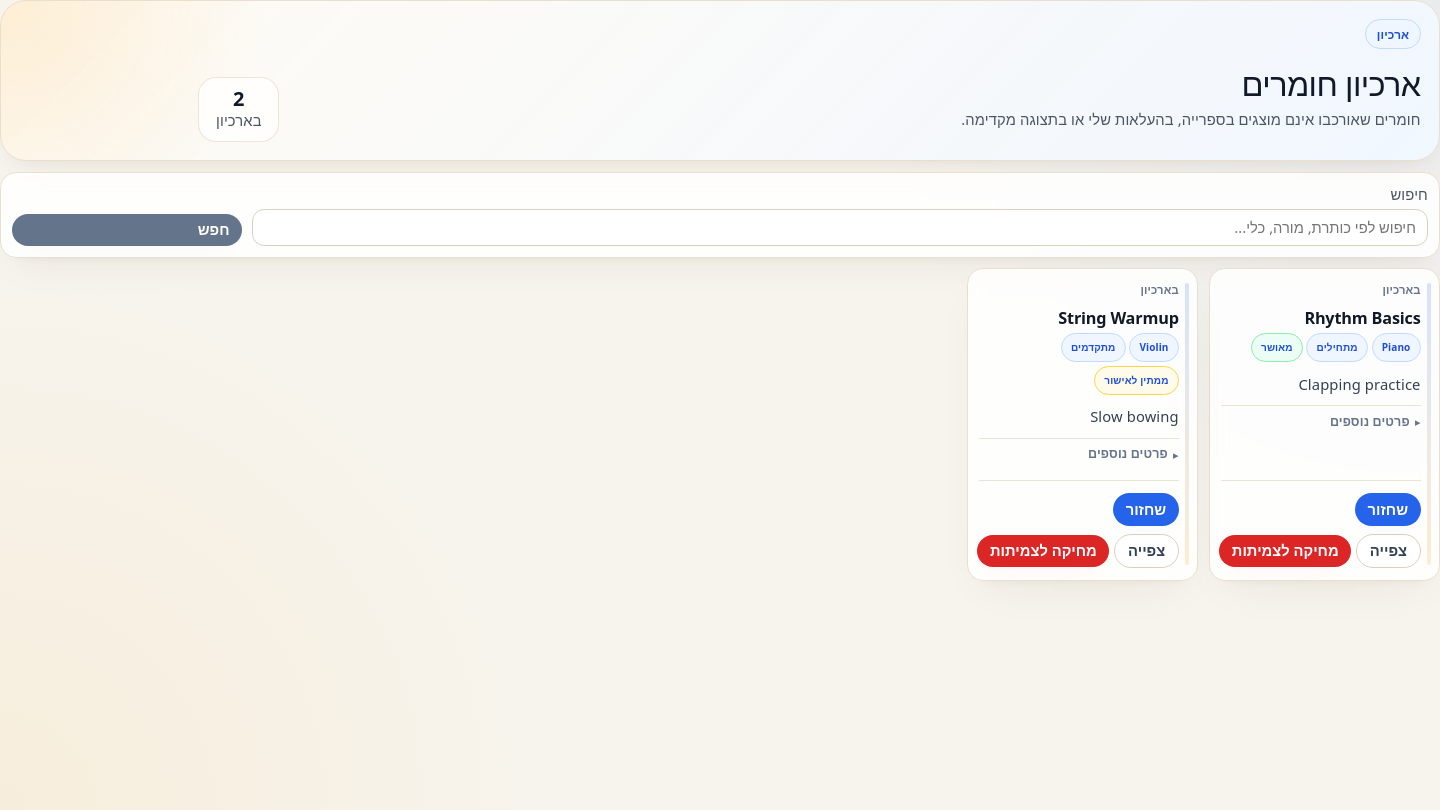
Scenario: AdminArchivedMaterialsPage › loads archived materials and allows restoring
The width and height of the screenshot is (1440, 810).
Expected: the heading "Rhythm Basics" is shown, [1304,306,1421,328]
Expected: the heading "String Warmup" is shown, [1058,306,1179,328]
What coordinates should you click on to do the following:
click the button "שחזור" below "Clapping practice"
I would click on:
 (1388, 510)
Its box is [1355,493,1421,526].
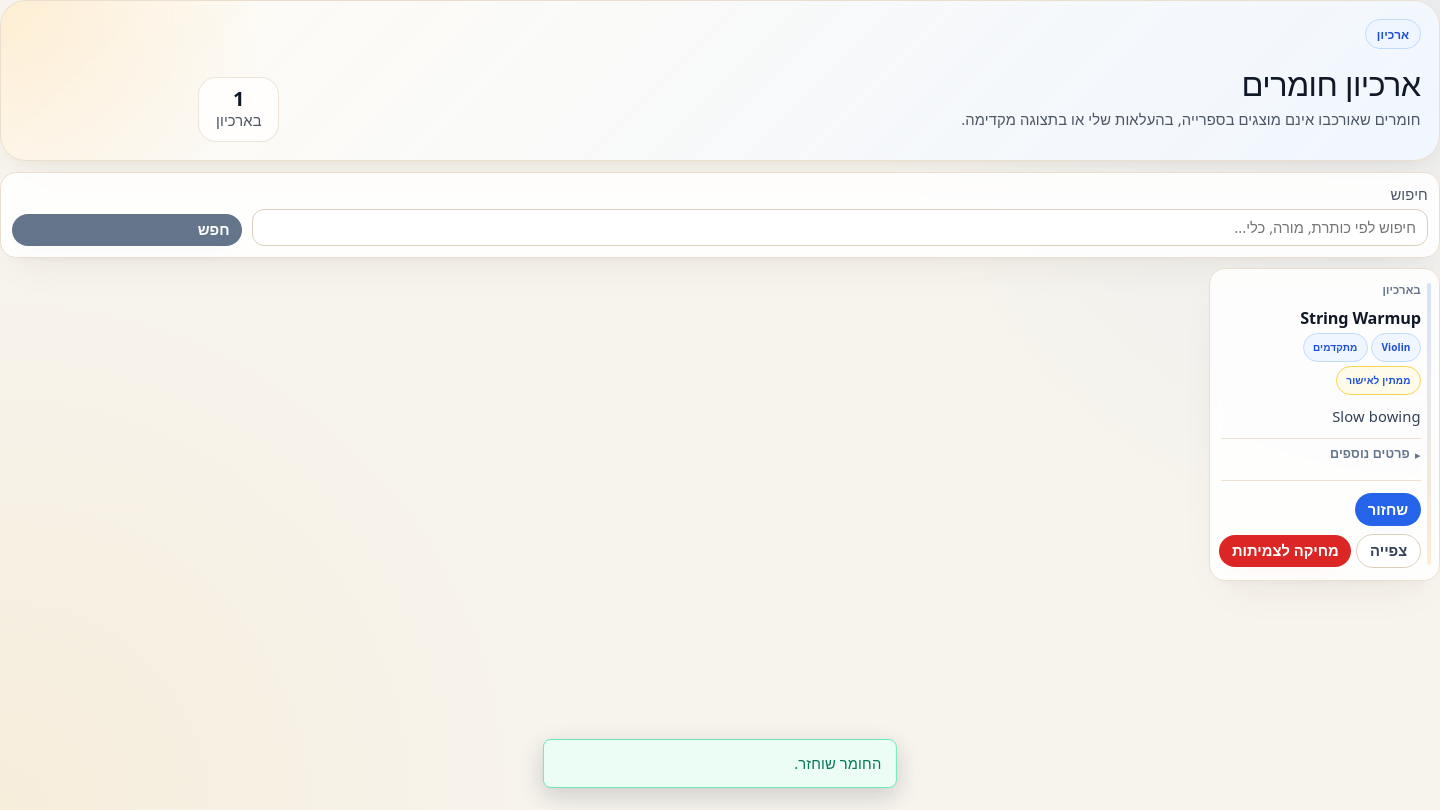
Expected: the text "החומר שוחזר." is shown, [543,739,897,788]
